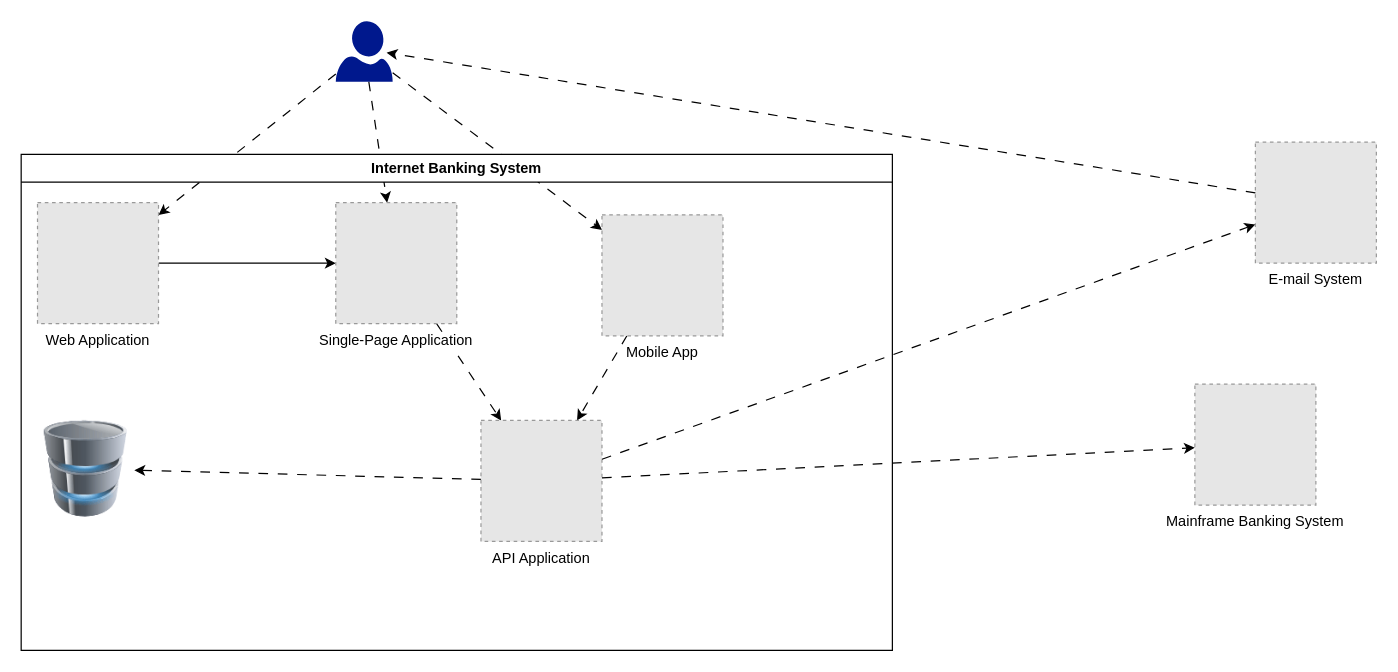
This 1398x672 diagram has some shape labels left out. Grey dashed boxes stand in for pictures. Here are the shapes that lost their labels. From the top down, the centre of each, then its label:
pixel 363 51: Personal Banking Customer
pixel 85 468: Database
